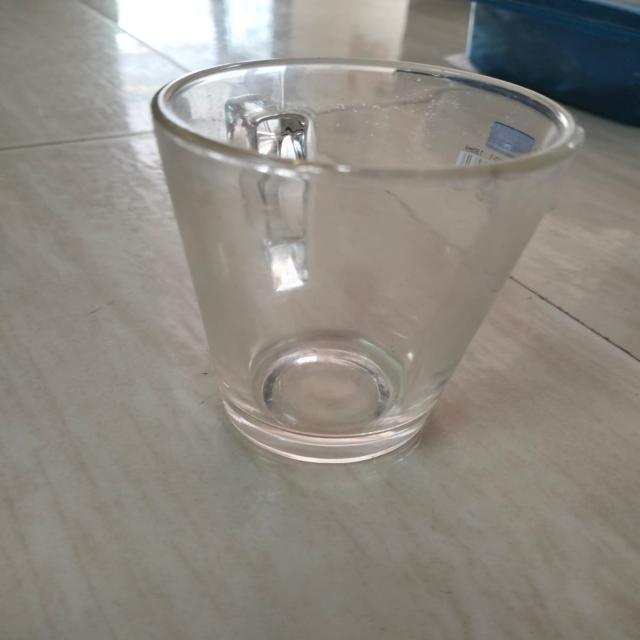glass-VX4N: (153, 55, 586, 468)
